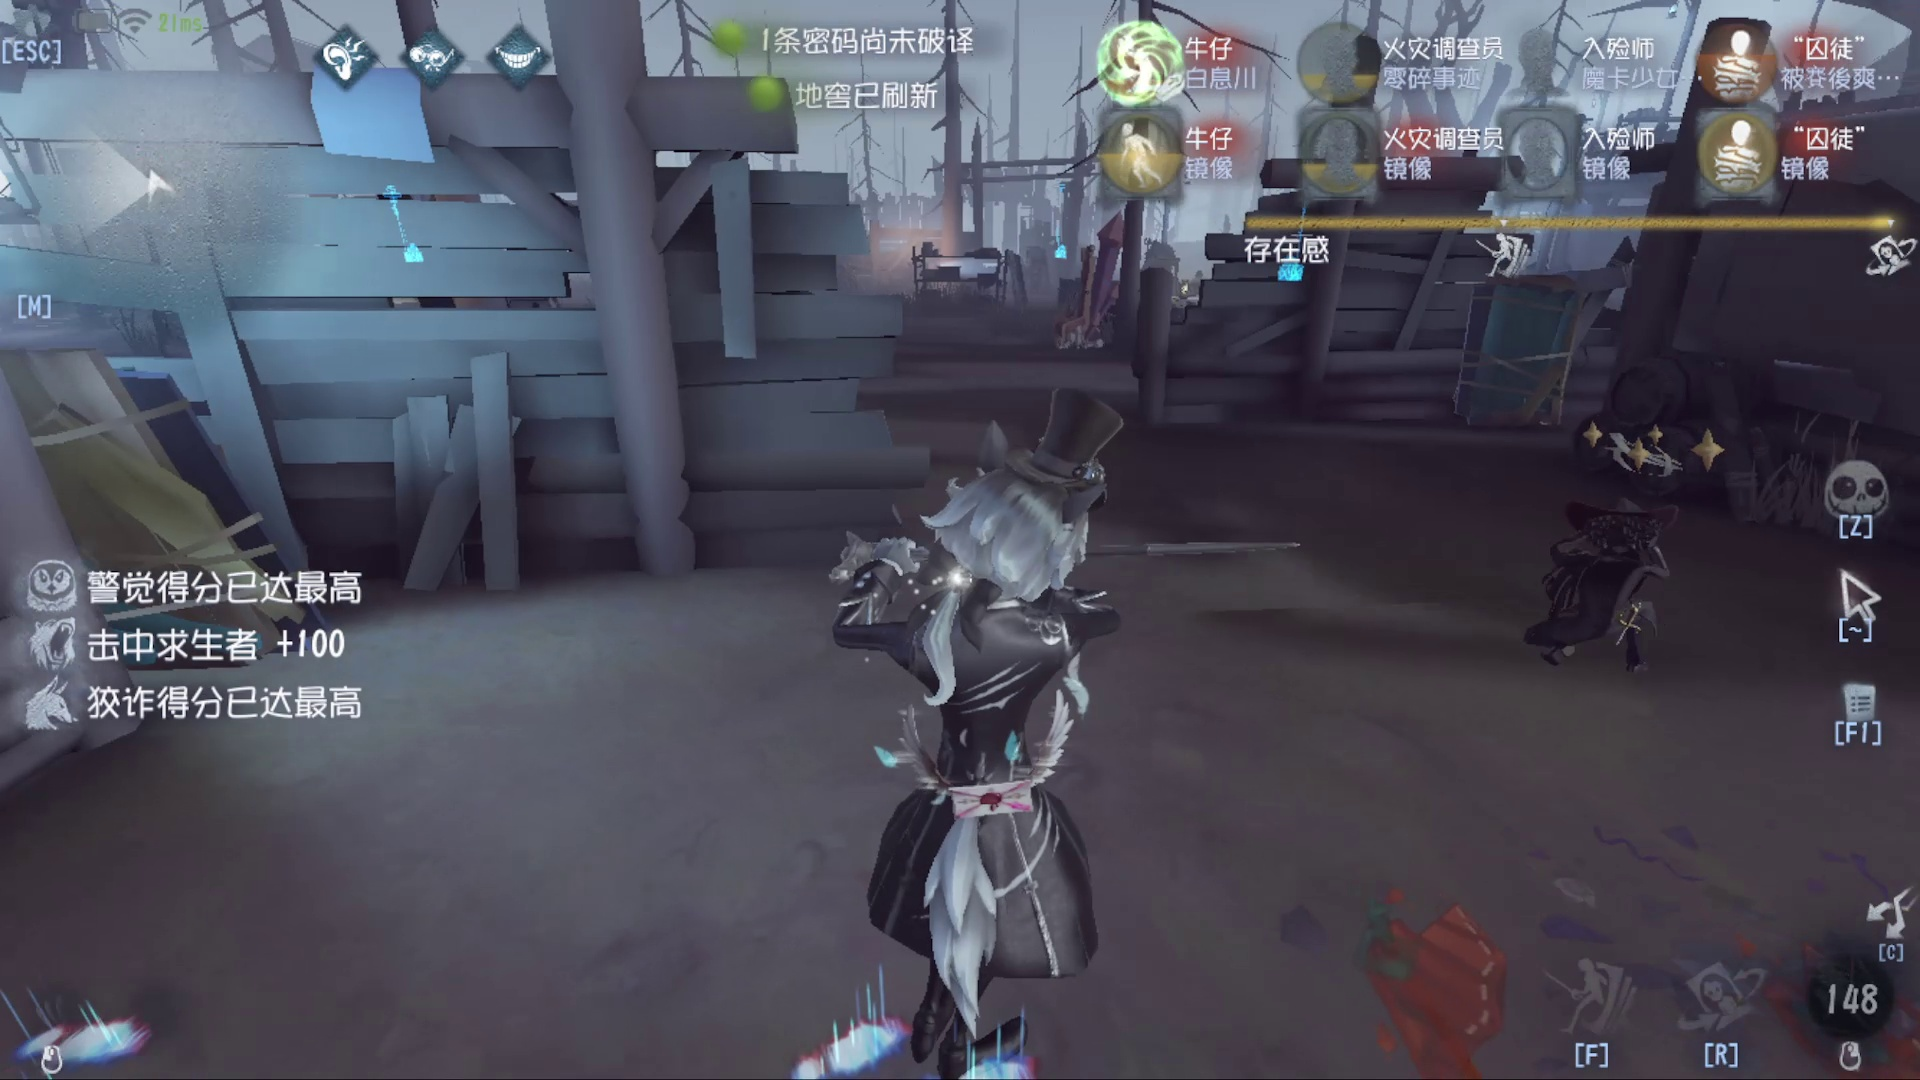木板: (7, 309, 390, 688), (1447, 272, 1571, 438)
求生者: (1489, 386, 1706, 661)
狂欢之椅: (1050, 214, 1139, 367)
